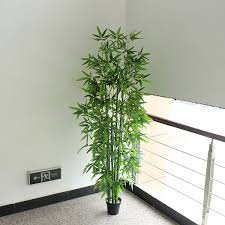bamboo: (65, 27, 150, 199)
